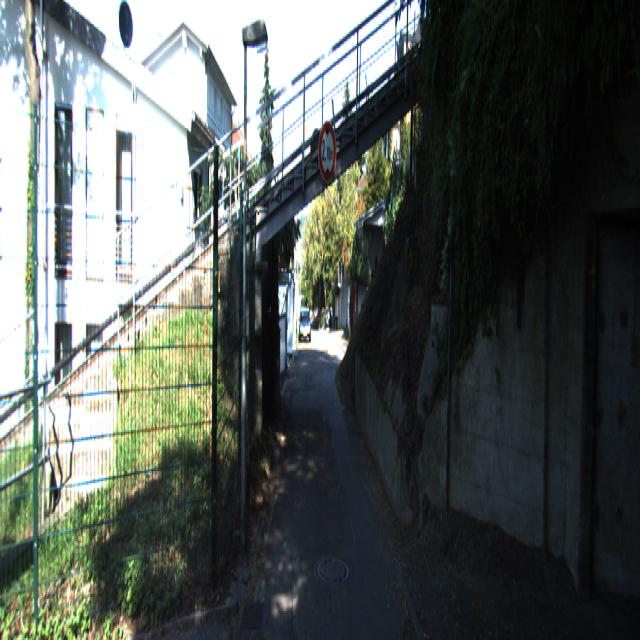Car: (299, 308, 311, 344)
